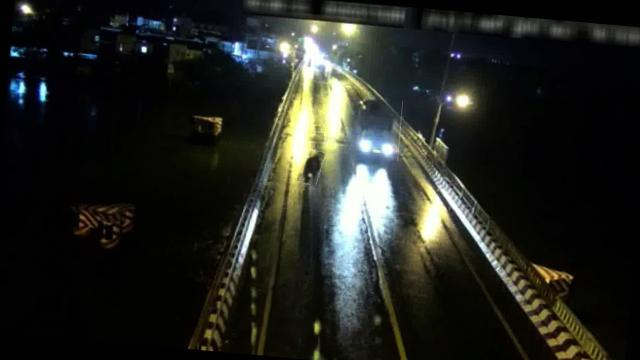Bike: (298, 148, 324, 186)
Truck: (349, 96, 402, 161)
